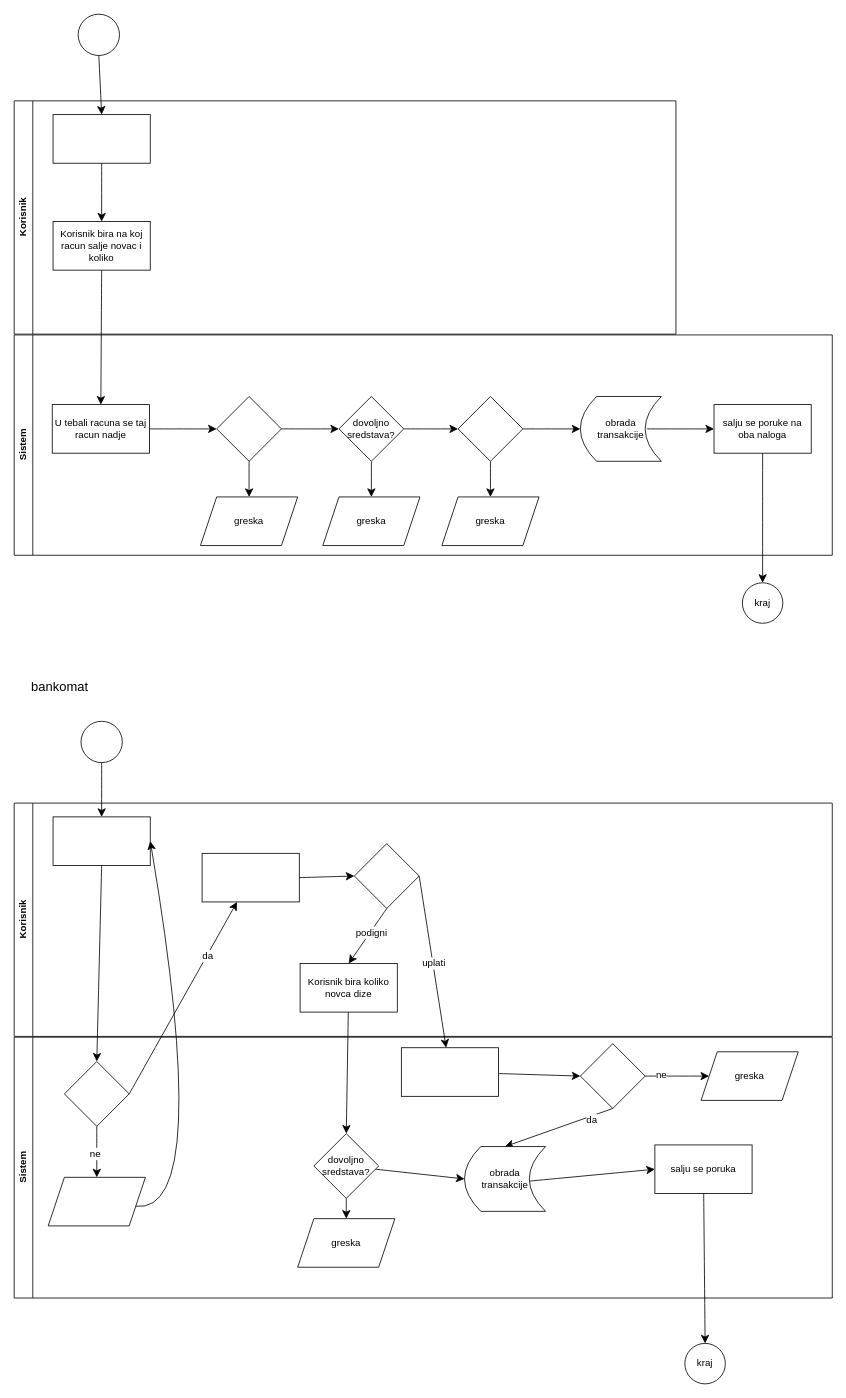
Image size: 846x1398. Some labels were removed from this diagram. Here are the shapes that lost their labels. From the top down, the centre of each, then its label:
the point at 101,138: korisnik se prijavi na aplikaciju
the point at 248,428: moj racun postoji?
the point at 490,428: taj racun postoji?
the point at 101,840: korisnik unese pin
the point at 250,877: bira opciju
the point at 386,875: opcije
the point at 450,1071: provera ispravke novca
the point at 612,1075: ispravan?
the point at 96,1093: provera pina
the point at 96,1201: unesi opet
